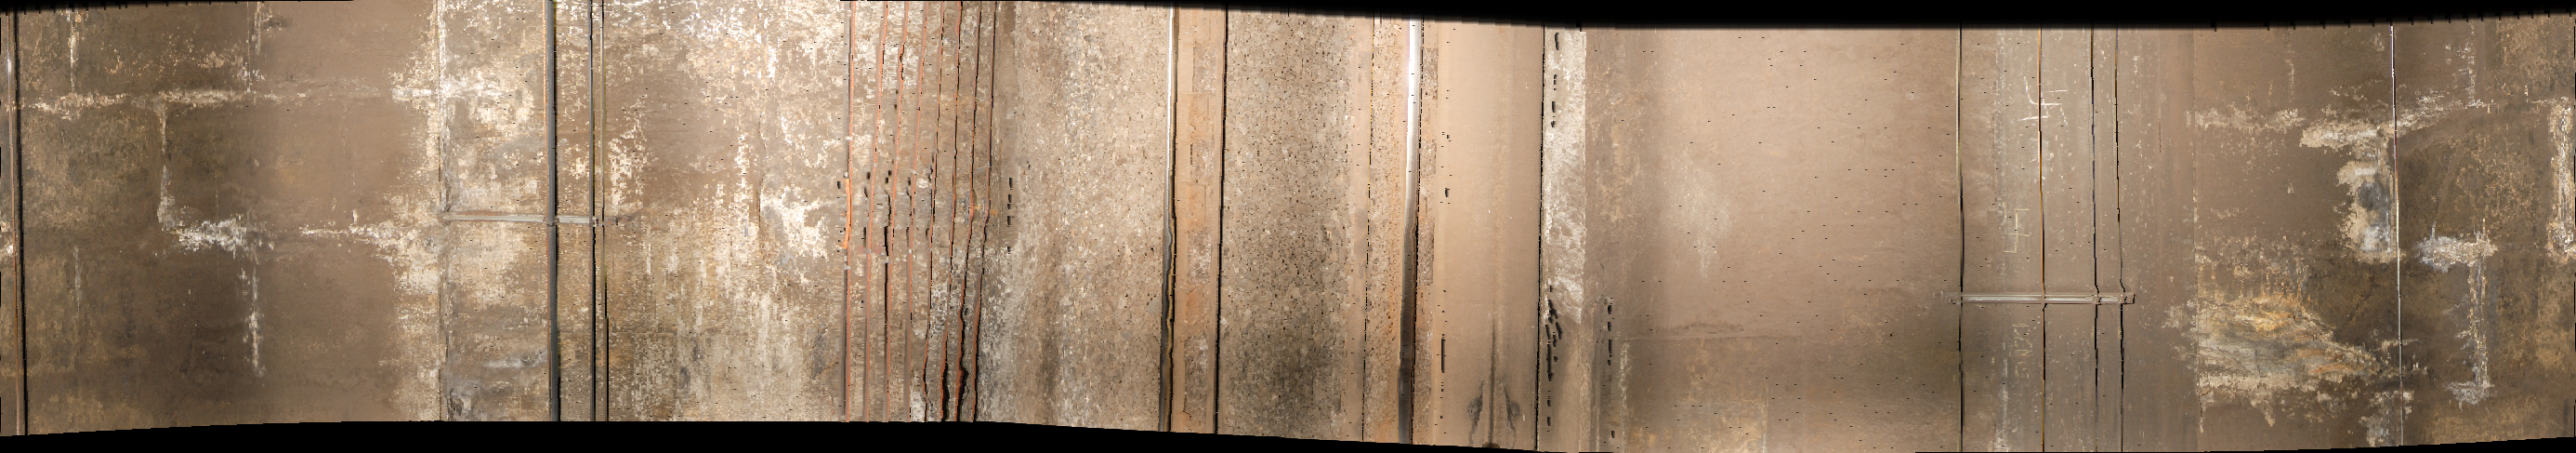pipes: (831, 3, 1002, 453), (540, 2, 626, 433), (2085, 31, 2141, 453), (1950, 16, 1978, 451), (2031, 26, 2058, 453)
tracks: (1161, 12, 1539, 453)
